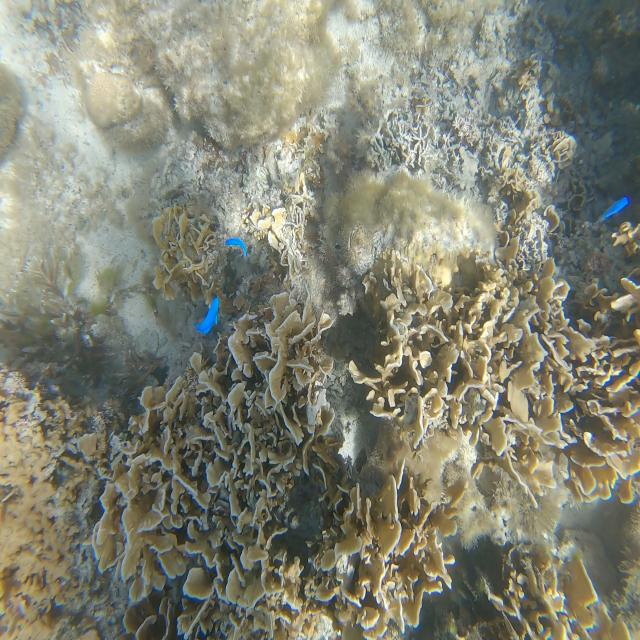rurisuzumedai: (194, 297, 219, 334), (600, 196, 629, 222), (225, 238, 246, 256)
